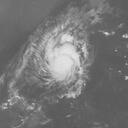cyclone: (35, 34, 86, 97)
